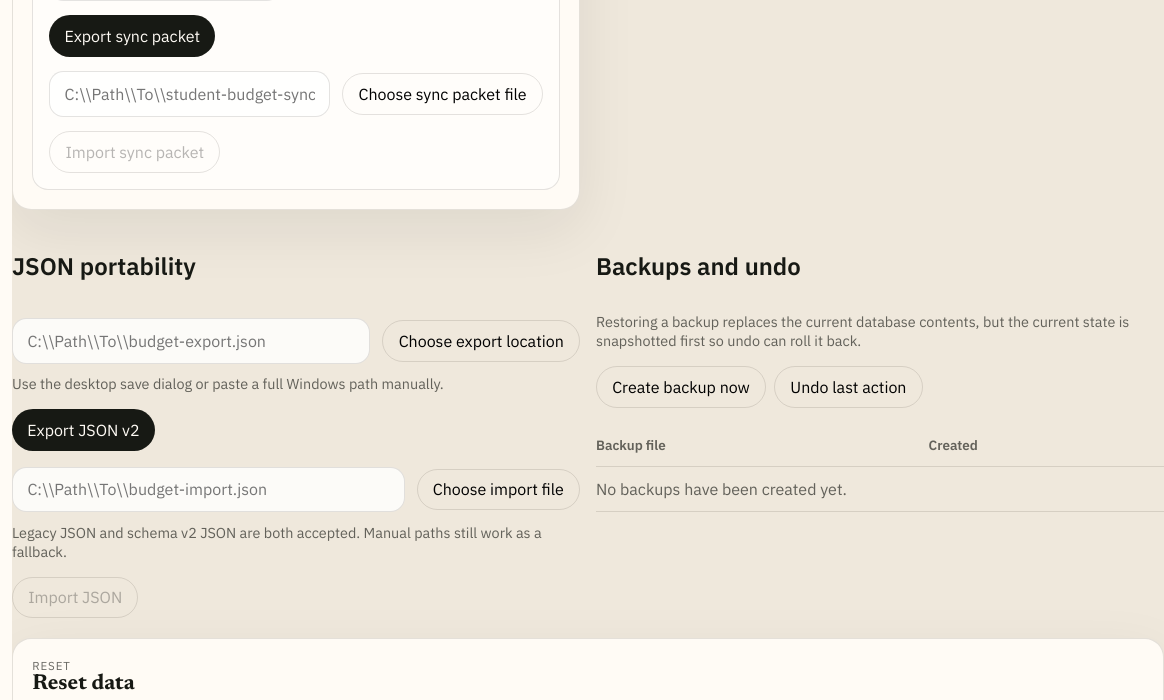
Test: SettingsPage › fills the export path from the file dialog
(page scrolled)
Click the button "Choose export location" at (481, 341), box 382,320 -> 580,362
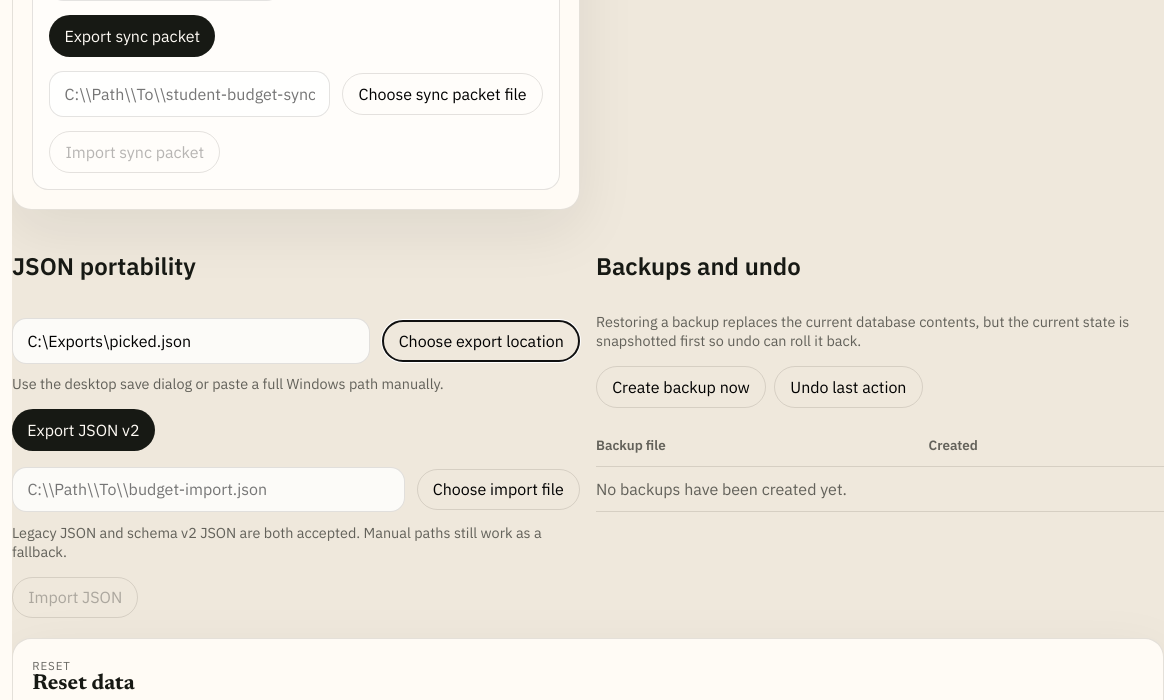
Now the field named "Export JSON path" holds "C:\\Exports\\picked.json", box 12,318 -> 370,364
